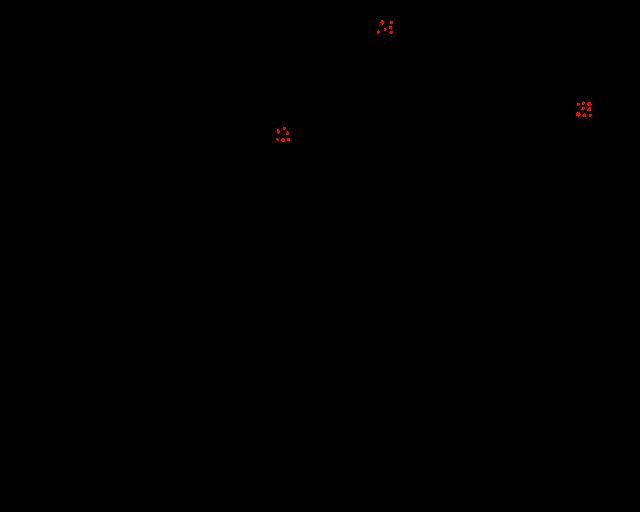Target: (576, 112, 581, 117), (380, 20, 384, 25), (587, 102, 592, 106), (587, 107, 591, 111), (582, 113, 586, 117), (281, 138, 285, 142), (277, 129, 280, 134), (377, 30, 380, 34), (389, 31, 393, 34), (582, 101, 585, 105), (581, 107, 585, 110), (286, 131, 289, 135), (390, 21, 393, 24), (389, 26, 392, 29), (384, 28, 387, 31), (577, 103, 580, 106), (589, 114, 592, 117), (283, 127, 286, 130), (276, 138, 279, 141), (287, 138, 290, 141)
